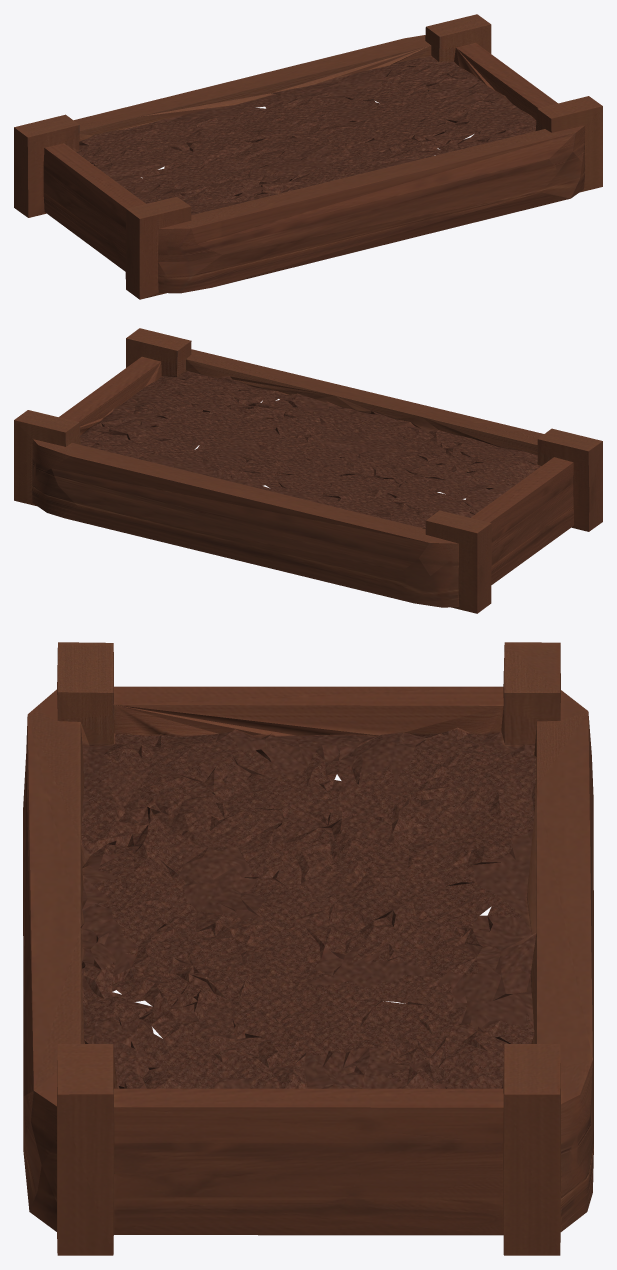
Rendered from raised_bed.glb.
The picture shows the model from 3 angles, top to bottom: view 1: azimuth 30°, elevation 25°; view 2: azimuth 150°, elevation 25°; view 3: azimuth 270°, elevation 25°; orthographic projection. The views are drawn at different scales.
Parts seen in each view (by area): view 1: geometry_0; view 2: geometry_0; view 3: geometry_0.
Boxes of the visible parts, <box> form: geometry_0: <box>14,14,602,299</box>; geometry_0: <box>14,328,602,613</box>; geometry_0: <box>23,642,593,1255</box>.
Size of the model in its own units: 3 by 0.5 by 1.6.
1 material, 1 textured.
